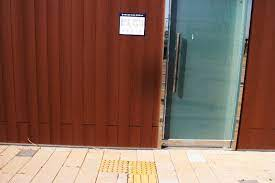guide_blocks: (98, 159, 156, 173)
